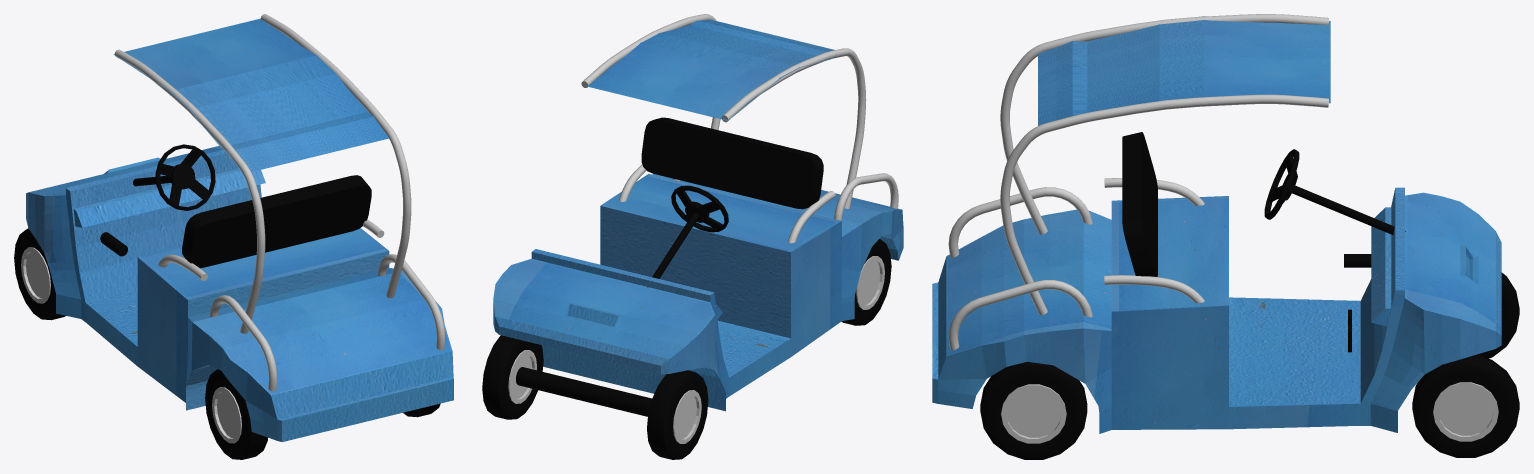
The model's file is golf-cart.glb.
3 views of the same model, side by side, from view 1: azimuth 30°, elevation 25°; view 2: azimuth 150°, elevation 25°; view 3: azimuth 270°, elevation 25° (orthographic). The views are drawn at different scales.
Parts seen in each view (by area): view 1: body, wheel-rear-left, wheel-front-left; view 2: body, wheel-front-left, wheel-front-right, wheel-rear-left; view 3: body, wheel-front-right, wheel-rear-right, wheel-front-left.
Part boxes in pixels (box(x1,y1,x2,y2)): body: box(26, 14, 453, 441); wheel-rear-left: box(205, 369, 267, 459); wheel-front-left: box(14, 228, 65, 320); body: box(493, 14, 903, 416); wheel-front-left: box(647, 370, 708, 459); wheel-front-right: box(482, 335, 543, 419); wheel-rear-left: box(841, 238, 891, 325); body: box(932, 14, 1501, 433); wheel-front-right: box(1412, 354, 1519, 457); wheel-rear-right: box(980, 361, 1087, 459); wheel-front-left: box(1477, 272, 1519, 358).
Size of the model in its own units: 1.16 by 1.58 by 2.4.
4 materials, 2 textured.
